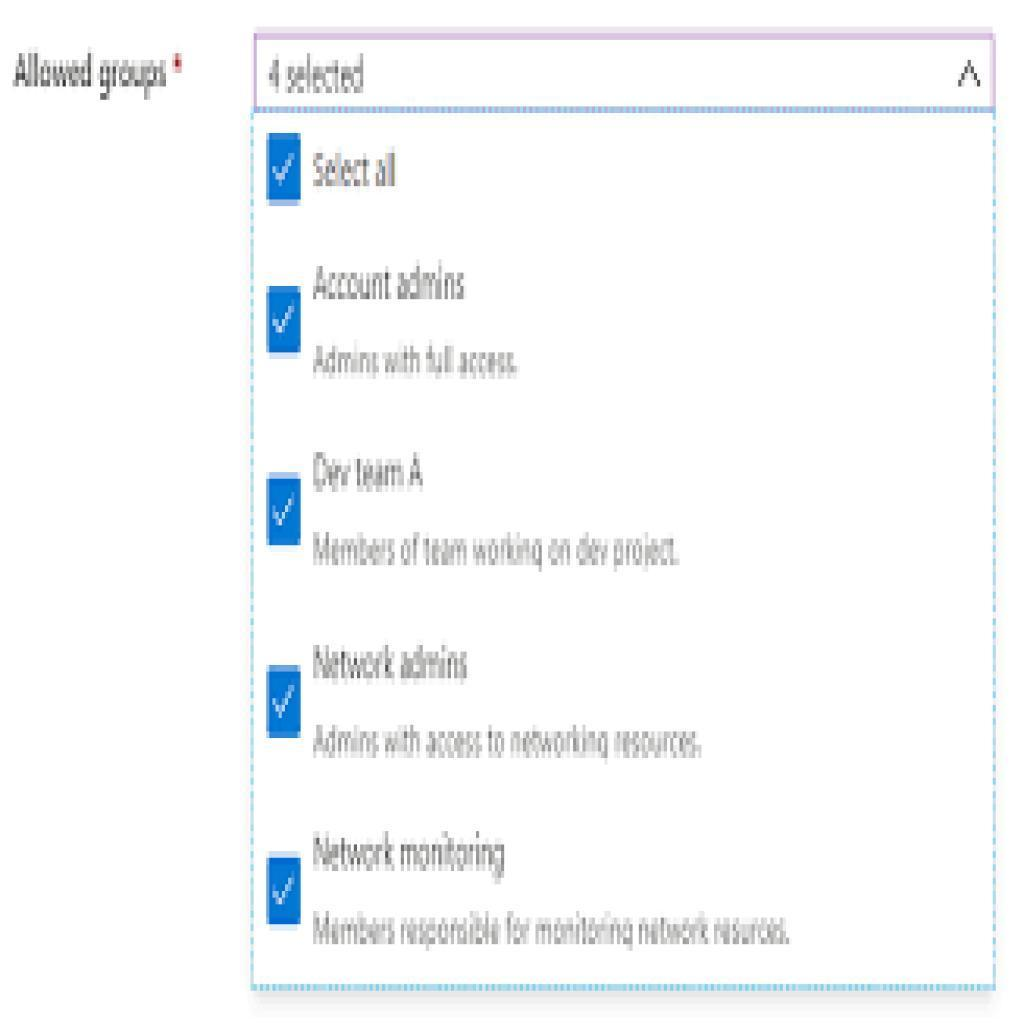checkbox: (267, 132, 304, 205), (266, 856, 304, 926), (268, 287, 305, 356), (268, 475, 303, 544), (270, 669, 302, 736)
dropdown: (255, 38, 1000, 114)
label: (312, 907, 793, 959), (313, 721, 702, 771), (310, 530, 686, 574), (312, 337, 525, 385), (307, 833, 511, 881), (313, 641, 469, 689), (313, 266, 474, 306), (307, 450, 426, 499), (310, 144, 404, 192)
